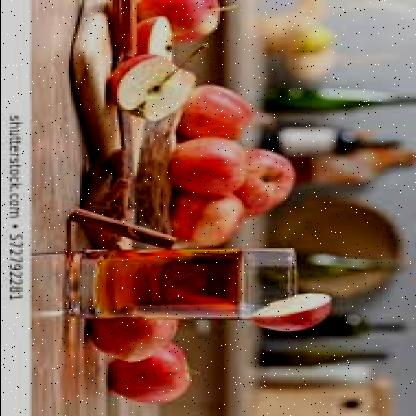apple: (103, 49, 201, 127), (166, 136, 246, 202), (82, 316, 180, 366), (110, 346, 190, 401), (236, 146, 302, 210), (186, 84, 260, 140), (174, 198, 250, 246), (142, 0, 221, 44)
damaged_apple: (254, 284, 337, 338)
